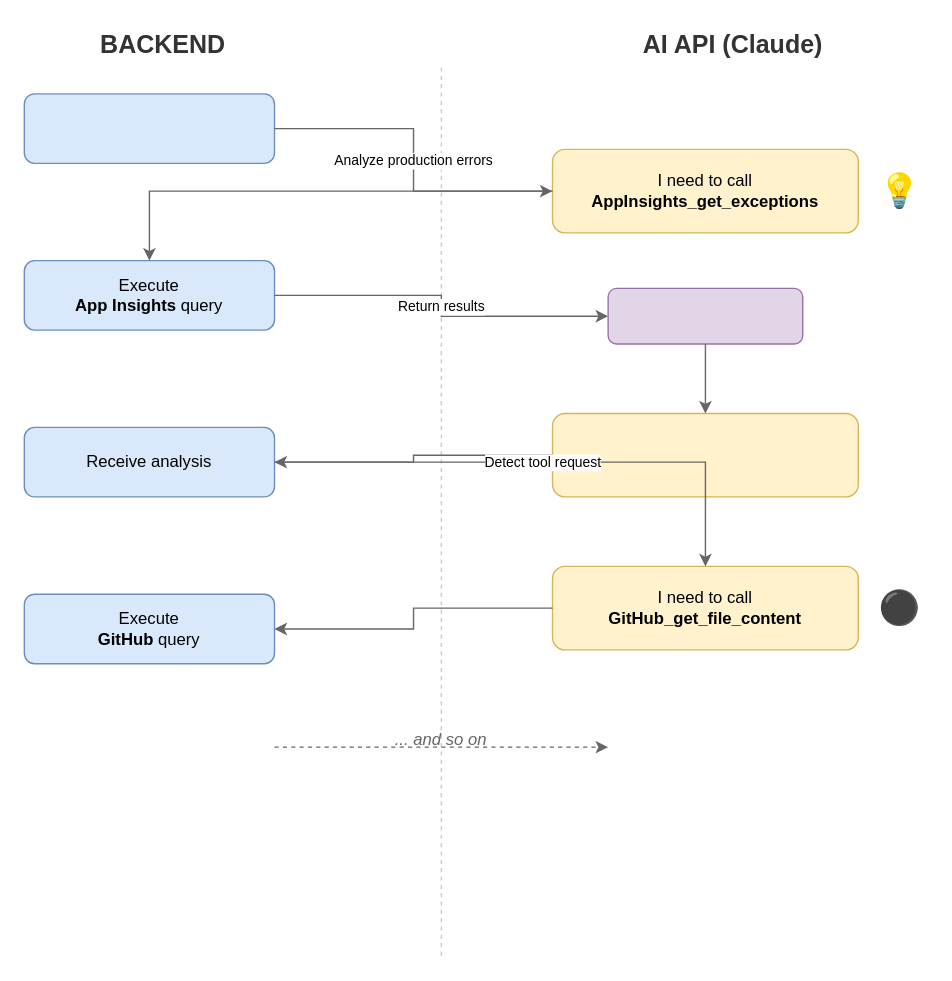
The diagram is 952 pixels wide and 981 high, and some of its shapes have lost their labels. Here are the shapes that lost their labels. From the top down, the centre of each, then its label:
At (149,127): "Send prompt + tools".
At (705,315): "Execute query".
At (704,454): "I found 3 critical exceptions. Let me check the source code...".
